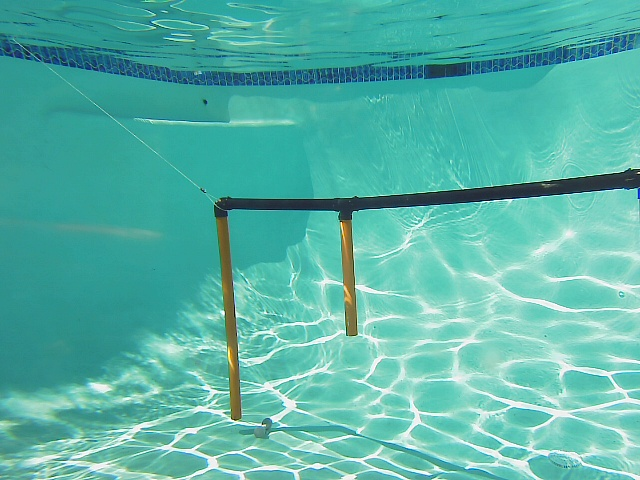Gate: (211, 208, 244, 423), (335, 216, 362, 338)
